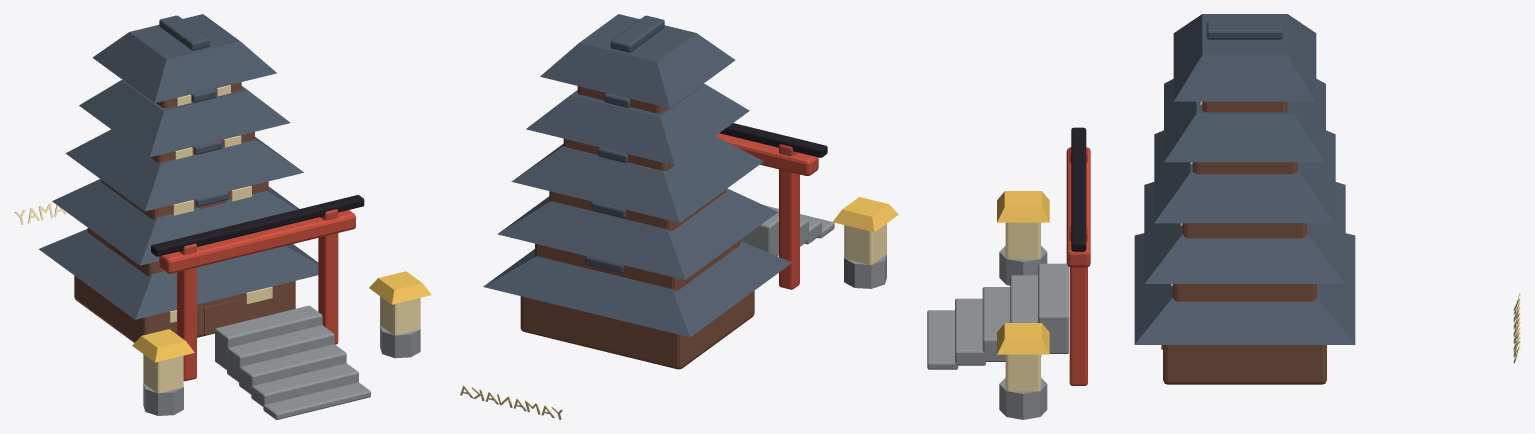
File: 06_yamanaka.glb
3 renders of one model, left to right at view 1: azimuth 30°, elevation 25°; view 2: azimuth 150°, elevation 25°; view 3: azimuth 270°, elevation 25°, orthographic. The views are drawn at different scales.
Parts seen in each view (by area): view 1: tier_0_body.002; view 2: tier_0_body.002, YamanakaLabel; view 3: tier_0_body.002.
Boxes of the visible parts, x1,y1,x2,y2 form: tier_0_body.002: (39,14,431,419); tier_0_body.002: (483,14,898,369); YamanakaLabel: (460,385,563,419); tier_0_body.002: (927,14,1355,419).
Size of the model in its own units: 6.38 by 6.13 by 10.37.
